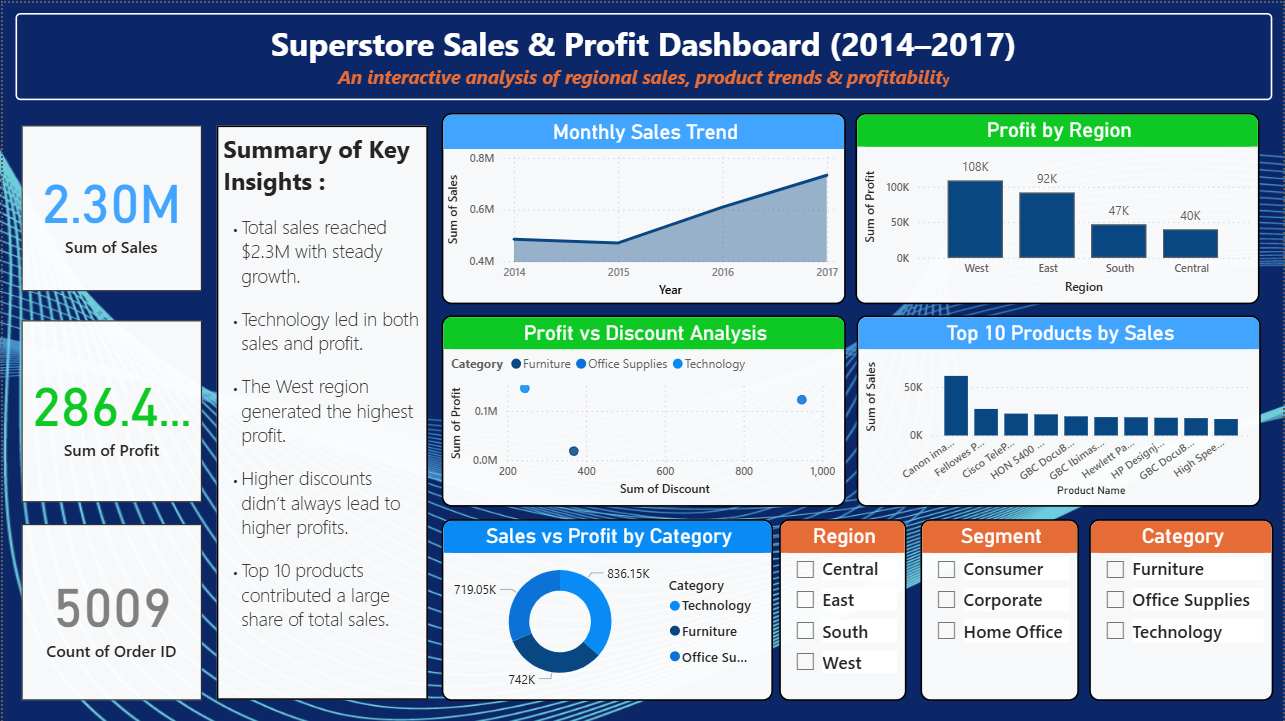

The dashboard page shown, as its layout file describes it:
{"tool":"powerbi","page":{"name":"Page 1","canvas":[1280,720],"ordinal":0},"visuals":[{"type":"columnChart","title":"Profit by Region","fields":{"Category":["Orders.Region"],"Y":["Sum(Orders.Profit)"]},"box":[852.9,110,404.3,191.4],"z":0},{"type":"areaChart","title":"Monthly Sales Trend","fields":{"Category":["Orders.Order Date.Variation.Date Hierarchy.Year","Orders.Order Date.Variation.Date Hierarchy.Month"],"Y":["Sum(Orders.Sales)"]},"box":[438.6,110,404.3,191.4],"z":1000},{"type":"donutChart","title":"Sales vs Profit by Category","fields":{"Category":["Orders.Category"],"Y":["Sum(Orders.Sales)"]},"box":[438.6,515.7,331.4,181.4],"z":2000},{"type":"clusteredColumnChart","title":"Top 10 Products by Sales","fields":{"Category":["Orders.Product Name"],"Y":["Sum(Orders.Sales)"]},"box":[854.3,312.9,404,191.4],"z":3000},{"type":"scatterChart","title":"Profit vs Discount Analysis","fields":{"X":["Sum(Orders.Discount)"],"Y":["Sum(Orders.Profit)"],"Series":["Orders.Category"]},"box":[438.6,312.9,404.3,191.4],"z":4000},{"type":"slicer","title":"Region","fields":{"Values":["Orders.Region"]},"box":[775.7,515.7,127.1,181.4],"z":5000},{"type":"textbox","box":[12.9,10,1257.1,87.1],"z":6000},{"type":"slicer","title":"Segment","fields":{"Values":["Orders.Segment"]},"box":[917.1,515.7,158.6,181.4],"z":7000},{"type":"slicer","title":"Category","fields":{"Values":["Orders.Category"]},"box":[1085.7,515.7,184.3,181.4],"z":8000},{"type":"card","fields":{"Values":["Sum(Orders.Sales)"]},"box":[18.6,122.9,180,165.7],"z":9000},{"type":"card","fields":{"Values":["Sum(Orders.Profit)"]},"box":[18.6,317.1,180,181.4],"z":10000},{"type":"card","fields":{"Values":["Count(Orders.Order ID)"]},"box":[18.6,521.4,180,175.7],"z":11000},{"type":"textbox","box":[214.3,122.9,211.4,574.3],"z":12000}]}

Visuals, with their boxes in screenshot pixels (x1, y1, x2, y2), scaled from the page's 1280x720 canvas onto the 1285x721 screenshot:
"Profit by Region" columnChart: x1=856 y1=110 x2=1262 y2=302
"Monthly Sales Trend" areaChart: x1=440 y1=110 x2=846 y2=302
"Sales vs Profit by Category" donutChart: x1=440 y1=516 x2=773 y2=698
"Top 10 Products by Sales" clusteredColumnChart: x1=858 y1=313 x2=1263 y2=505
"Profit vs Discount Analysis" scatterChart: x1=440 y1=313 x2=846 y2=505
"Region" slicer: x1=779 y1=516 x2=906 y2=698
textbox: x1=13 y1=10 x2=1275 y2=97
"Segment" slicer: x1=921 y1=516 x2=1080 y2=698
"Category" slicer: x1=1090 y1=516 x2=1275 y2=698
card - Sum(Orders.Sales): x1=19 y1=123 x2=199 y2=289
card - Sum(Orders.Profit): x1=19 y1=318 x2=199 y2=499
card - Count(Orders.Order ID): x1=19 y1=522 x2=199 y2=698
textbox: x1=215 y1=123 x2=427 y2=698
